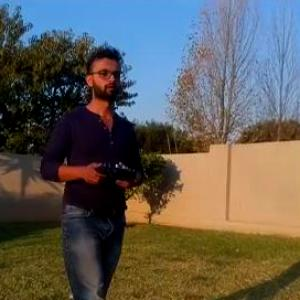follow: (31, 27, 149, 299)
